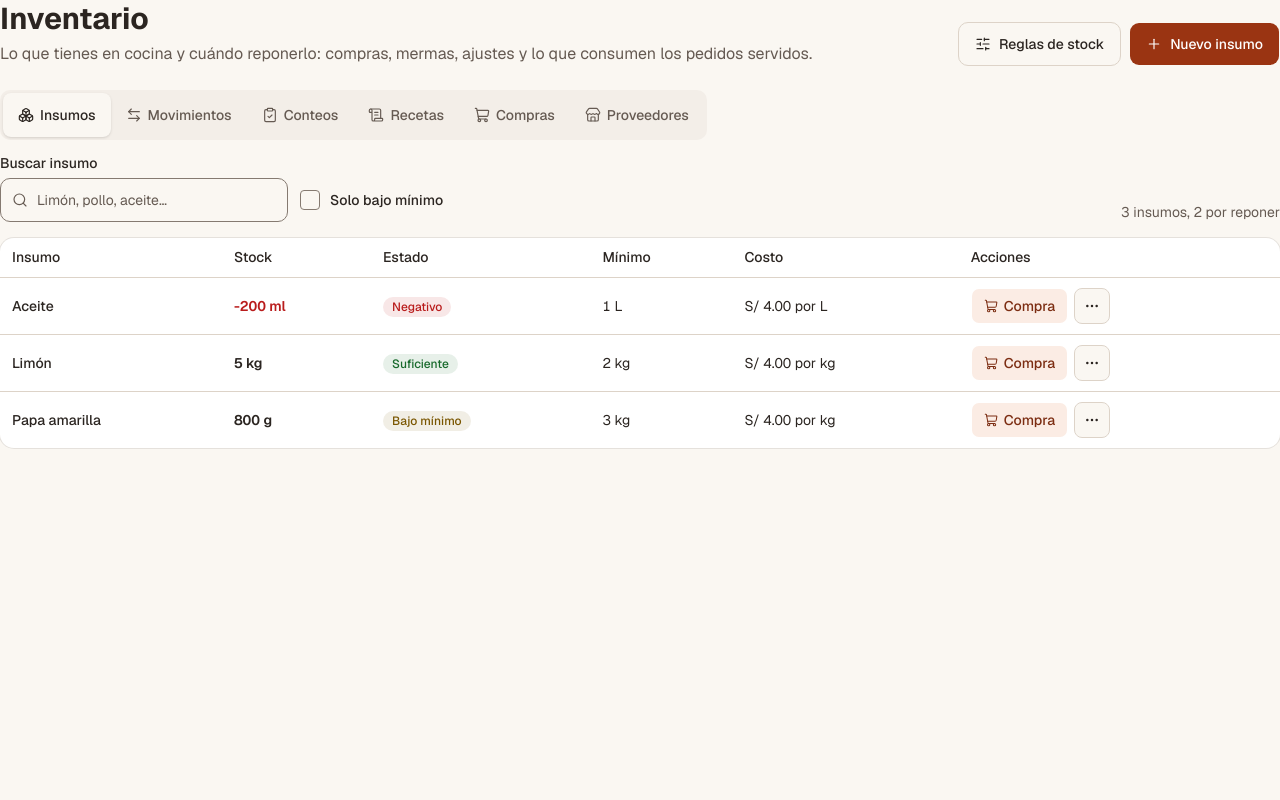
Test: InventoryView: reglas de stock › encenderla la envía y avisa lo que cambia
What coordinates should you click on to do the following:
click the button "Reglas de stock"
I would click on:
 (1040, 44)
Its box is [958,22,1121,66].
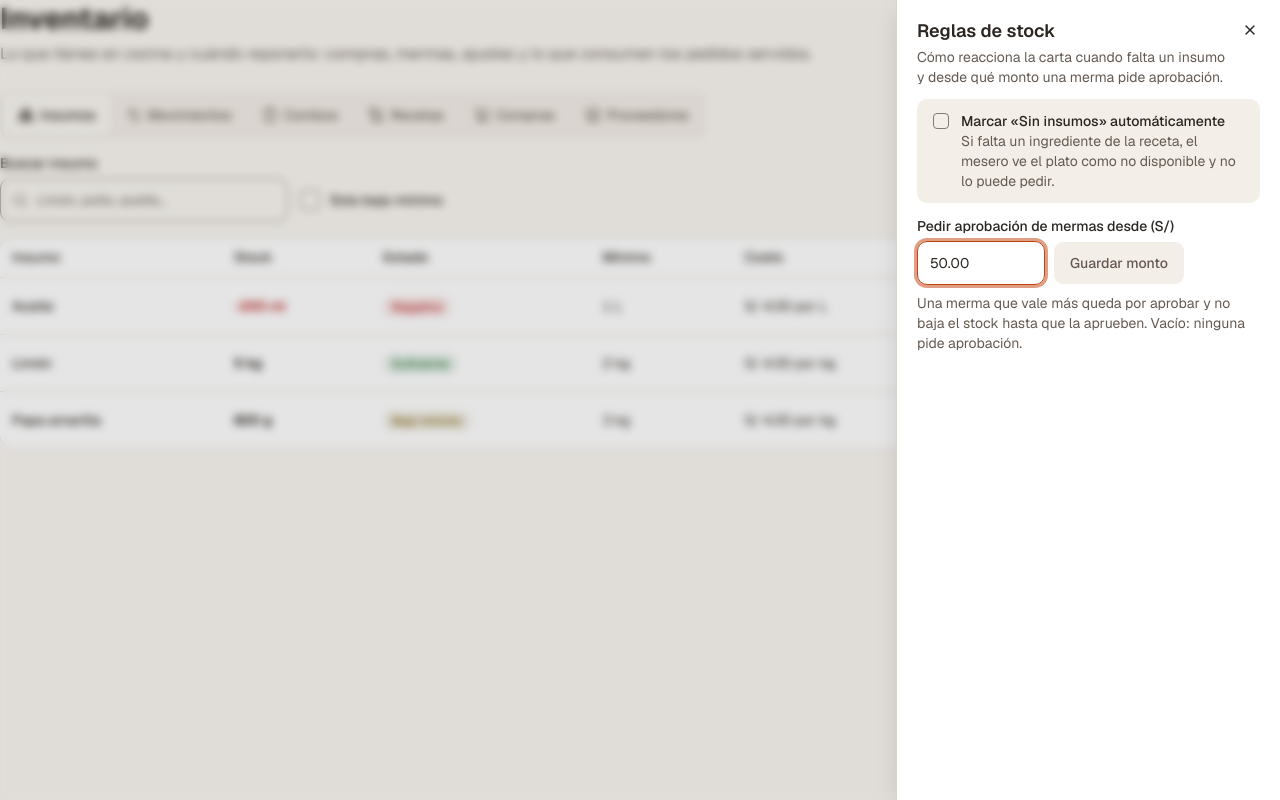
What coordinates should you click on to do the following:
click the checkbox named "Marcar «Sin insumos» automáticamente"
I would click on:
 (941, 120)
Its box is [933,112,949,128].
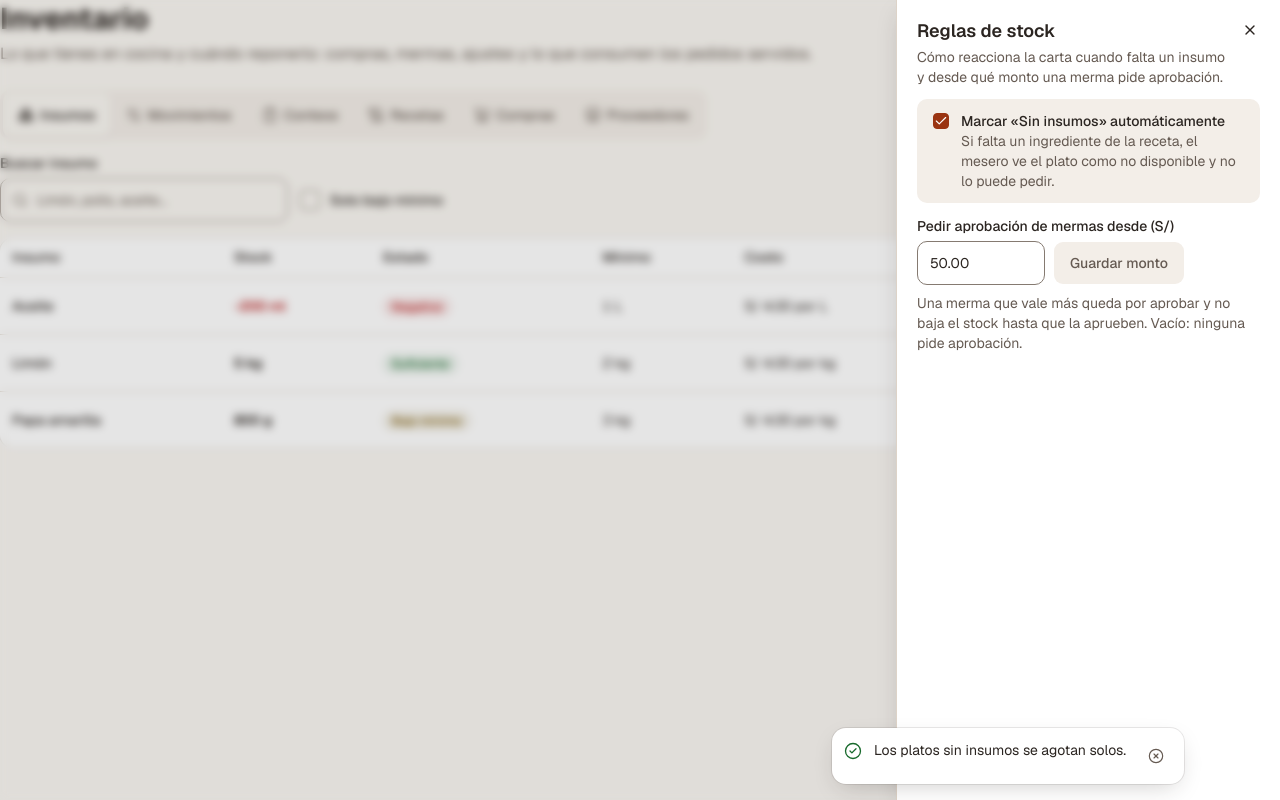
Expected: the text "Los platos sin insumos se agotan solos." is shown, [874,740,1128,760]
